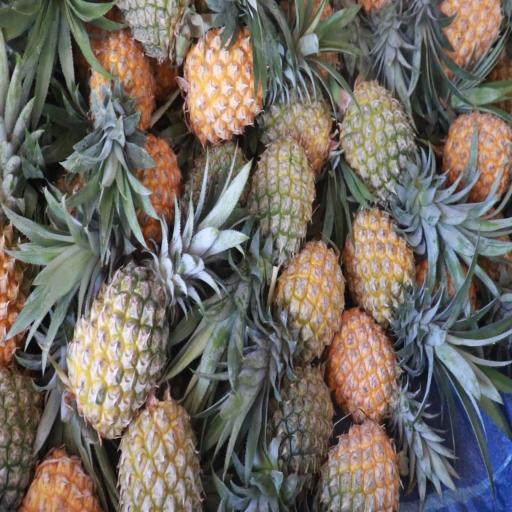------------------------------: (72, 266, 169, 432), (121, 395, 203, 512), (262, 78, 332, 164)
Pineapple - v8 v1: (185, 30, 271, 136), (349, 208, 422, 322), (330, 310, 400, 422), (282, 243, 347, 350), (89, 36, 154, 140), (442, 107, 512, 203), (429, 0, 503, 76), (126, 141, 182, 240)
